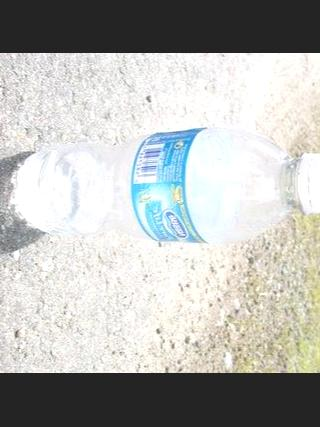bottle: (2, 122, 320, 248)
